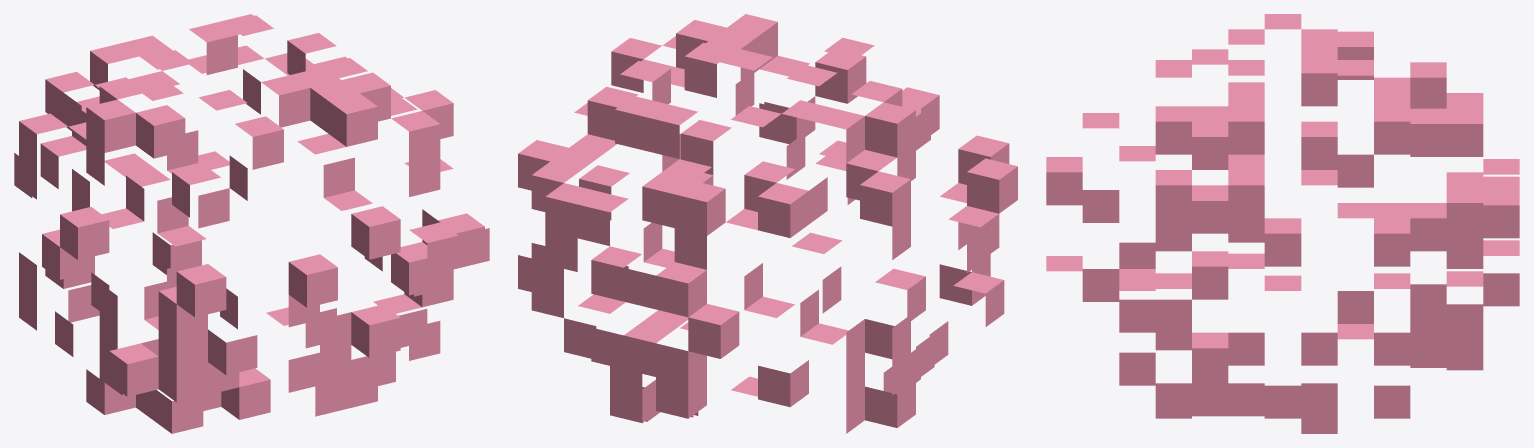
Rendered from tree-cherry-1-pink2-ff9dbb.gltf.
3 renders of one model, left to right at view 1: azimuth 30°, elevation 25°; view 2: azimuth 150°, elevation 25°; view 3: azimuth 270°, elevation 25°, orthographic. The views are drawn at different scales.
Parts seen in each view (by area): view 1: tree-cherry-1-pink2-ff9dbb; view 2: tree-cherry-1-pink2-ff9dbb; view 3: tree-cherry-1-pink2-ff9dbb.
Part boxes in pixels (left/top/right/bottom): tree-cherry-1-pink2-ff9dbb: left=14, top=14, right=489, bottom=433; tree-cherry-1-pink2-ff9dbb: left=518, top=14, right=1017, bottom=433; tree-cherry-1-pink2-ff9dbb: left=1046, top=14, right=1519, bottom=433.
Size of the model in its own units: 13 by 10 by 13.
